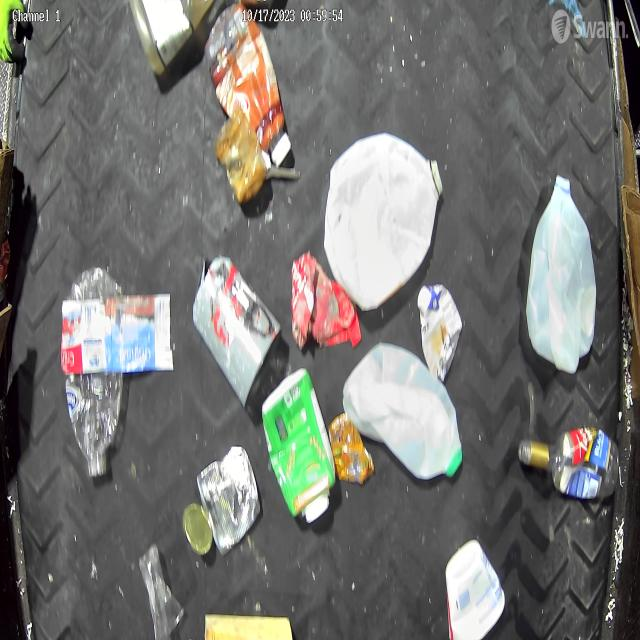can: (196, 447, 261, 552), (181, 501, 213, 558)
milk_jug: (322, 131, 443, 310), (342, 342, 464, 480), (526, 172, 596, 379)
plastic_bottle: (59, 266, 128, 482), (521, 428, 614, 500)
